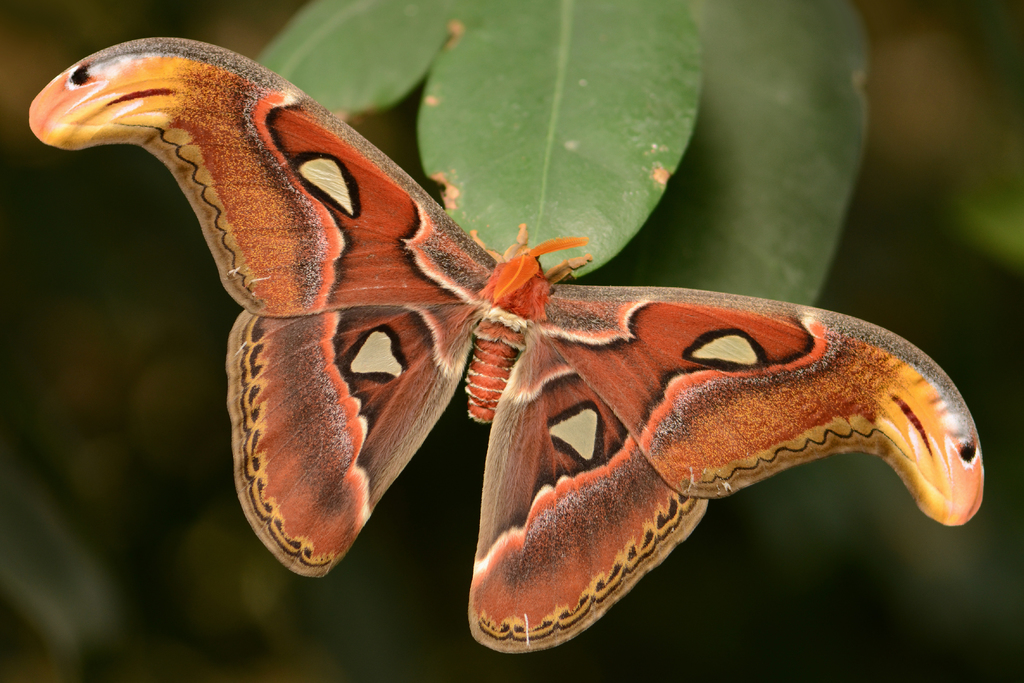Butterfly: (27, 21, 991, 675)
